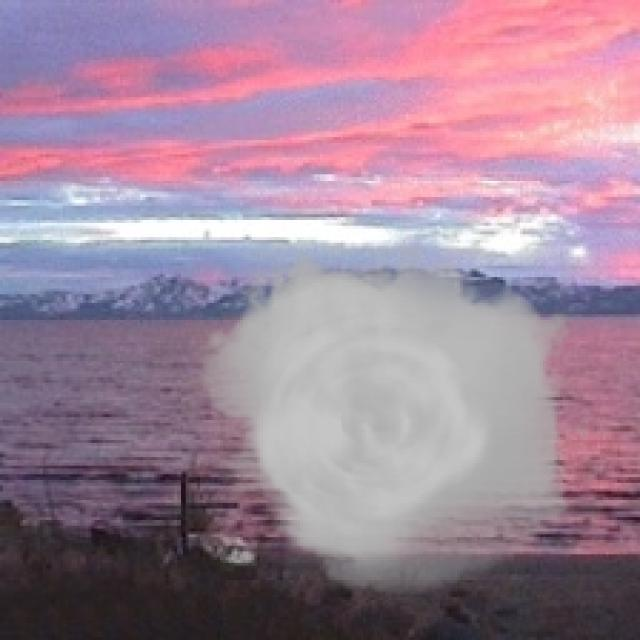smoke: (186, 246, 588, 594)
